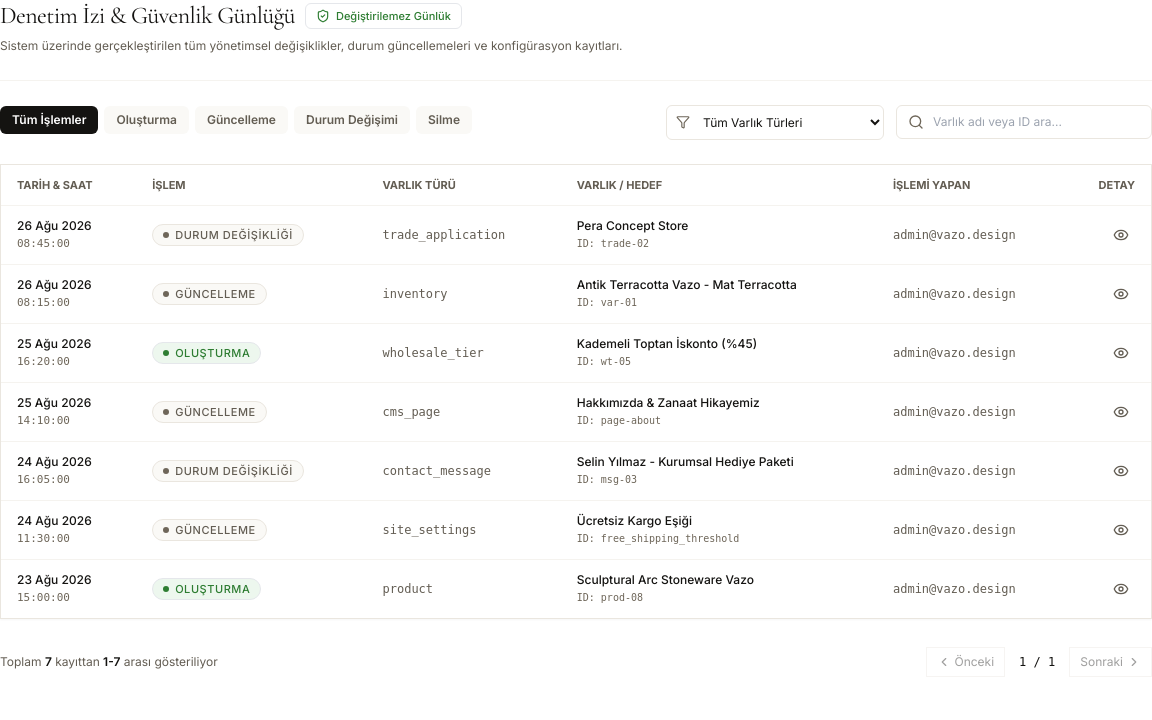
Test: AdminAuditPage Component › renders audit trail page and displays audit logs with filtering
Check: the heading "Denetim İzi & Güvenlik Günlüğü" is shown, box [0,0,295,32]
Check: the text "Değiştirilemez Günlük" is shown, box [336,8,451,24]
Click the button titled "Metadata İncele" in the row of "08:45:00" at x=1121, y=234, box [1107,220,1135,248]
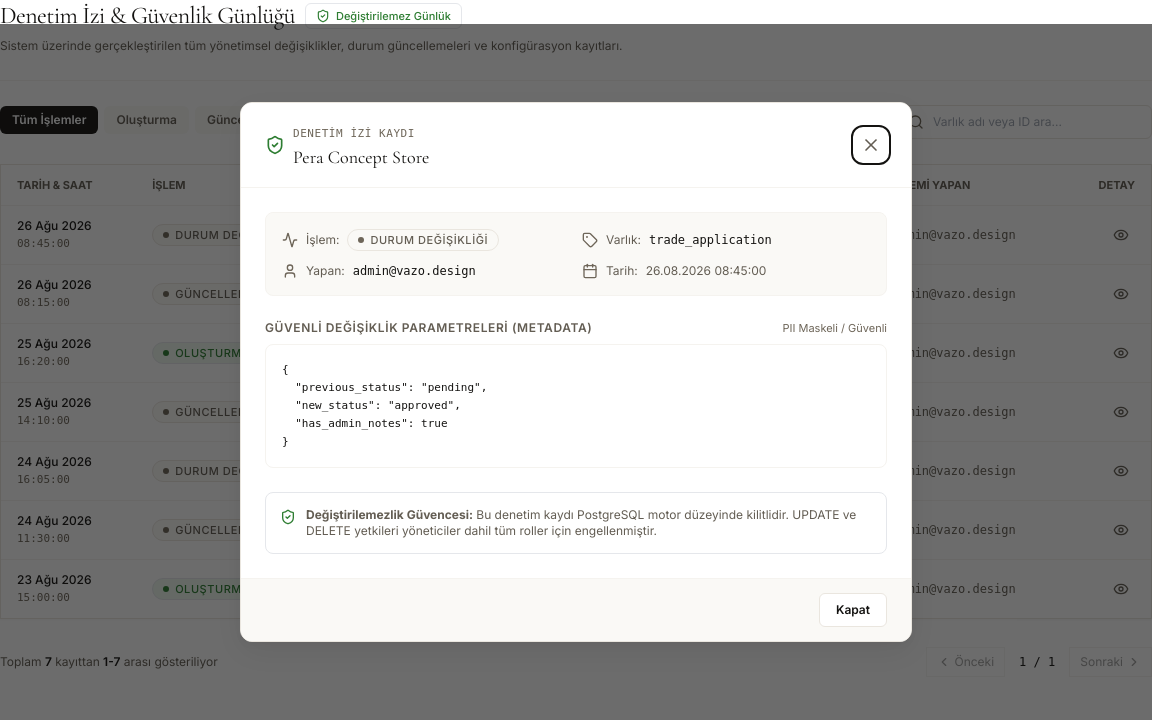
Check: the text "Denetim İzi Kaydı" is shown, box [293,127,415,140]
Check: the text "Değiştirilemezlik Güvencesi:" is shown, box [306,507,473,522]
// Close modal
Click the button "Kapat" at x=853, y=610, box [819,593,887,627]
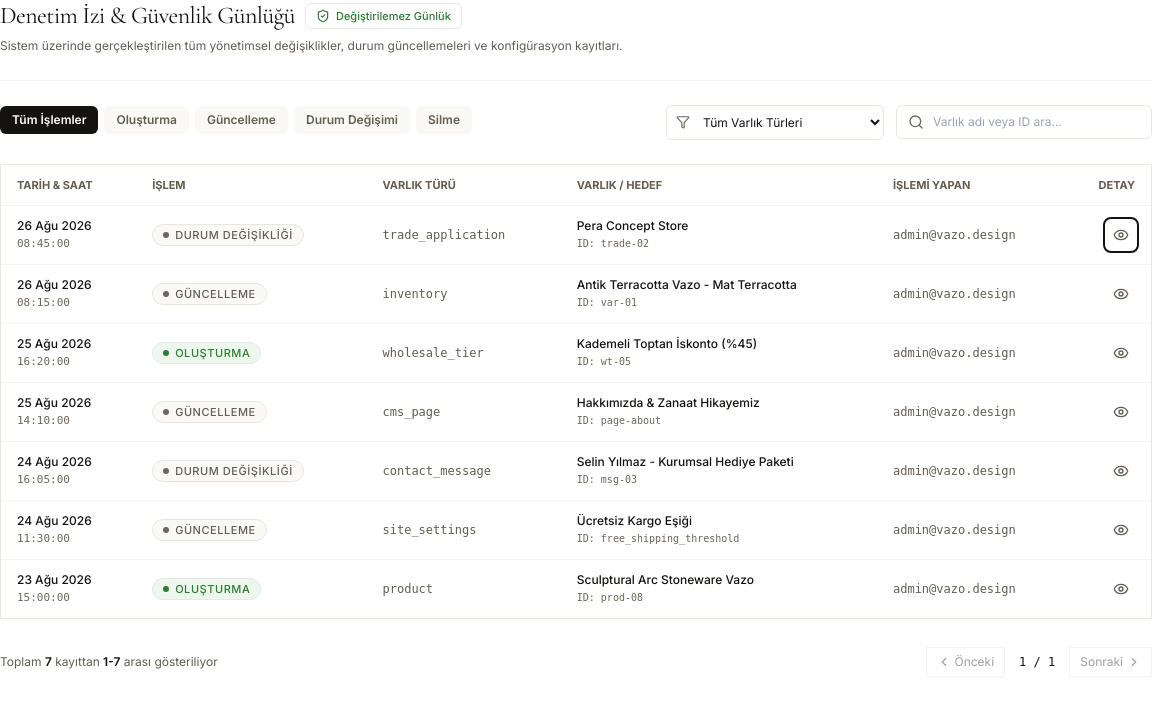
Check: the text "Değiştirilemezlik Güvencesi:" is gone
